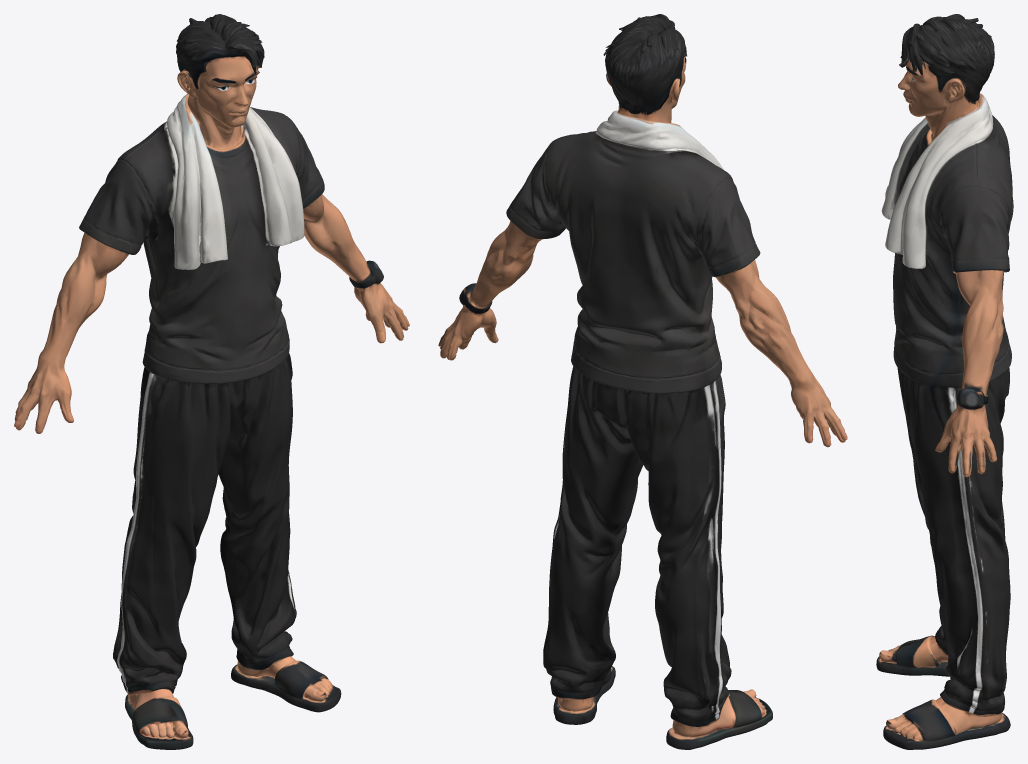
The model's file is yunjun_front.glb.
3 renders of one model, left to right at view 1: azimuth 30°, elevation 25°; view 2: azimuth 150°, elevation 25°; view 3: azimuth 270°, elevation 25°, orthographic.
Parts seen in each view (by area): view 1: tripo_node_474ed8ff-7df7-4052-9384-1d78023ccdb8; view 2: tripo_node_474ed8ff-7df7-4052-9384-1d78023ccdb8; view 3: tripo_node_474ed8ff-7df7-4052-9384-1d78023ccdb8.
Part boxes in pixels (left/top/right/bottom): tripo_node_474ed8ff-7df7-4052-9384-1d78023ccdb8: left=14, top=14, right=409, bottom=749; tripo_node_474ed8ff-7df7-4052-9384-1d78023ccdb8: left=438, top=14, right=847, bottom=749; tripo_node_474ed8ff-7df7-4052-9384-1d78023ccdb8: left=876, top=14, right=1013, bottom=749.
Bounding box in the file's own units: 1.06 × 1.75 × 0.3178.
Materials: 1 (1 with a texture image).
